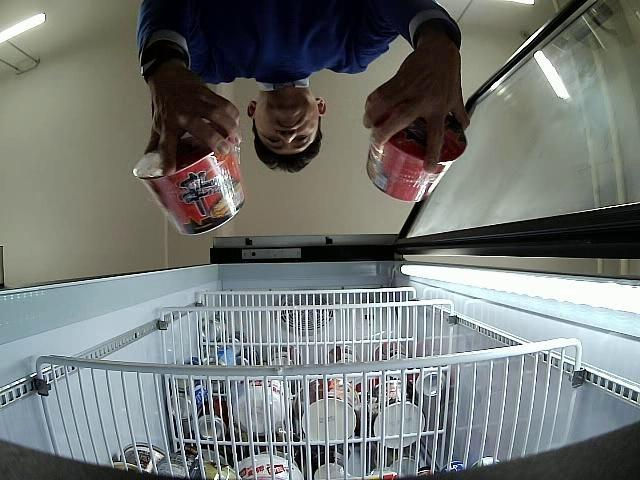01_ShinRamen_L: (132, 136, 244, 238), (368, 113, 467, 201)
